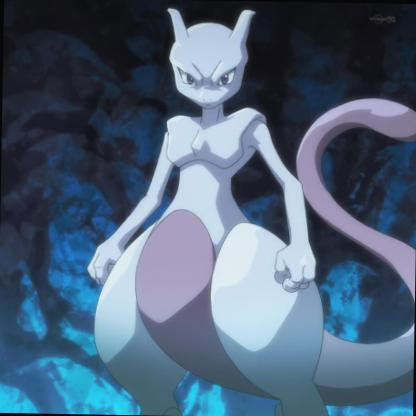Mewtu: (0, 43, 415, 415)
